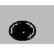correct: (5, 18, 38, 42)
